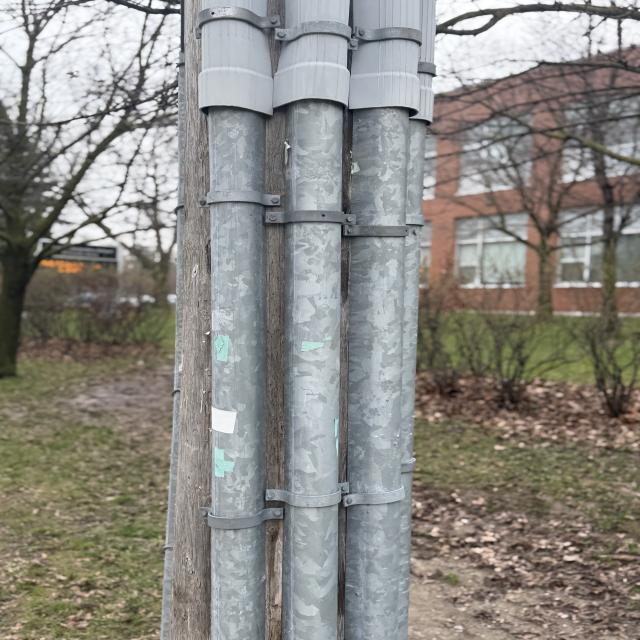Electrical Pole: (143, 0, 447, 640)
